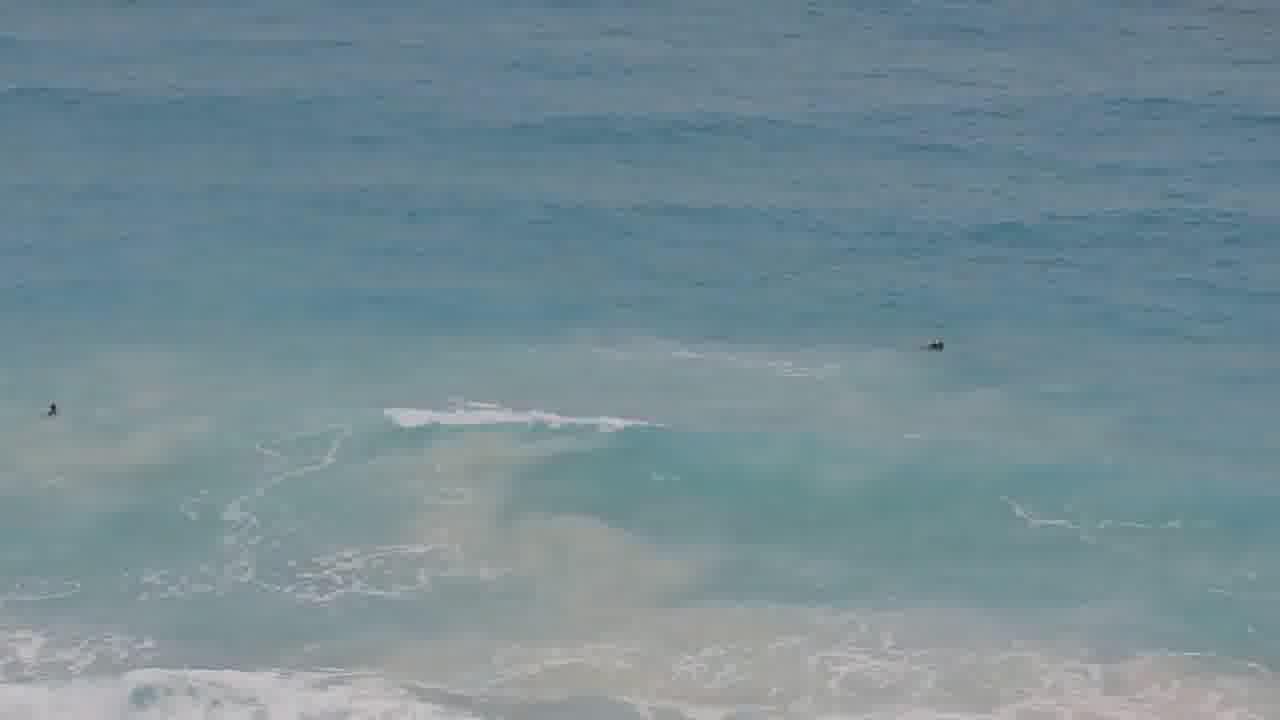human: (912, 333, 956, 368), (35, 395, 76, 430)
